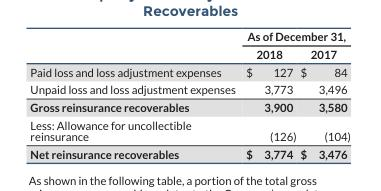table: (29, 29, 349, 160)
table column: (29, 29, 240, 160), (240, 29, 297, 160), (297, 29, 349, 160)
table column header: (29, 29, 349, 62)
table row: (29, 115, 349, 144), (29, 44, 349, 62), (29, 62, 349, 80), (29, 97, 349, 115), (29, 80, 349, 97), (29, 144, 349, 160), (29, 29, 349, 44)
table spanning cell: (240, 29, 349, 44)
